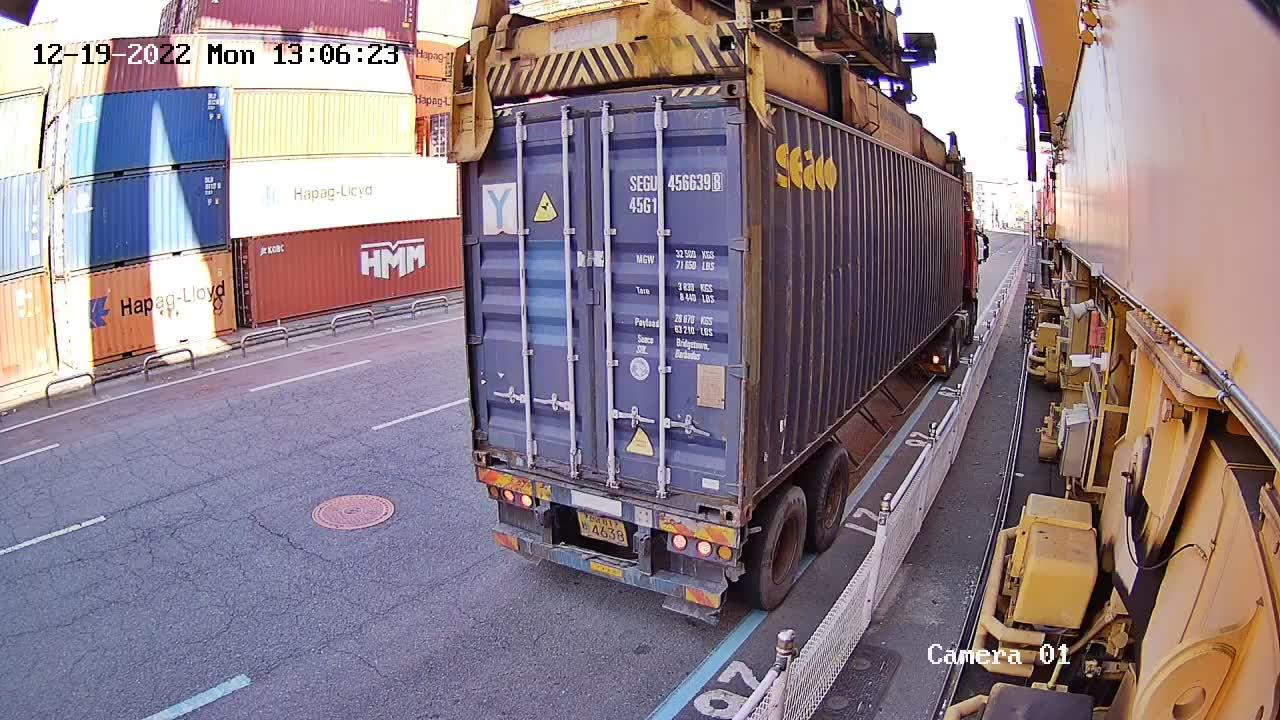Chassis: (475, 469, 742, 547)
Cone: (740, 521, 753, 546)
Hole_L: (743, 451, 772, 525), (472, 428, 509, 468)
Hole_R: (688, 468, 742, 525)
Tire: (761, 488, 809, 603), (814, 449, 852, 542)
